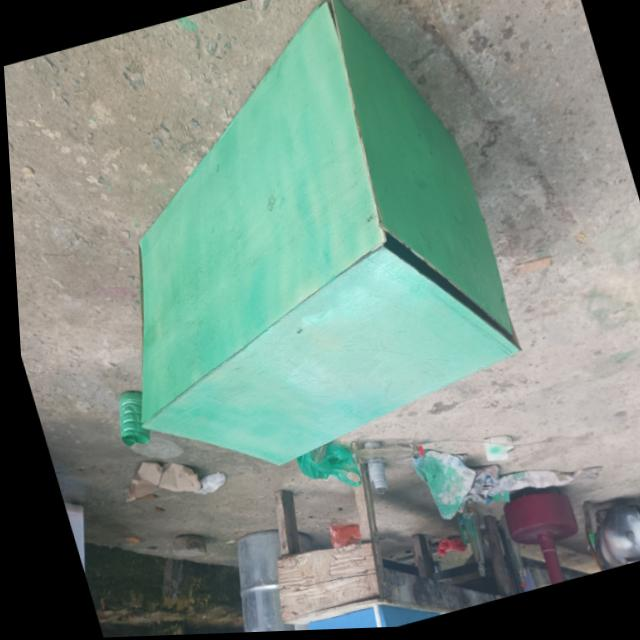green_box: (19, 0, 581, 516)
